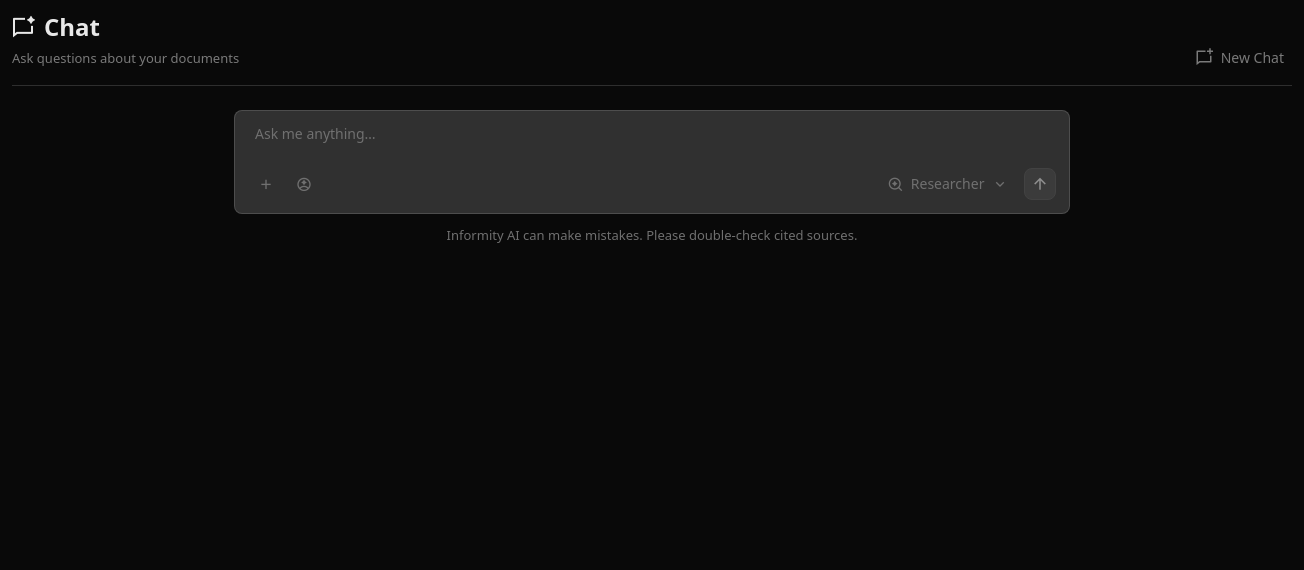
ChatView new chat behavior › shows edit control only on the latest non-internal user message after streaming completes
The width and height of the screenshot is (1304, 570).
In the text box named "Chat message input": x=652, y=162 [234,110,1070,214], type "First prompt"
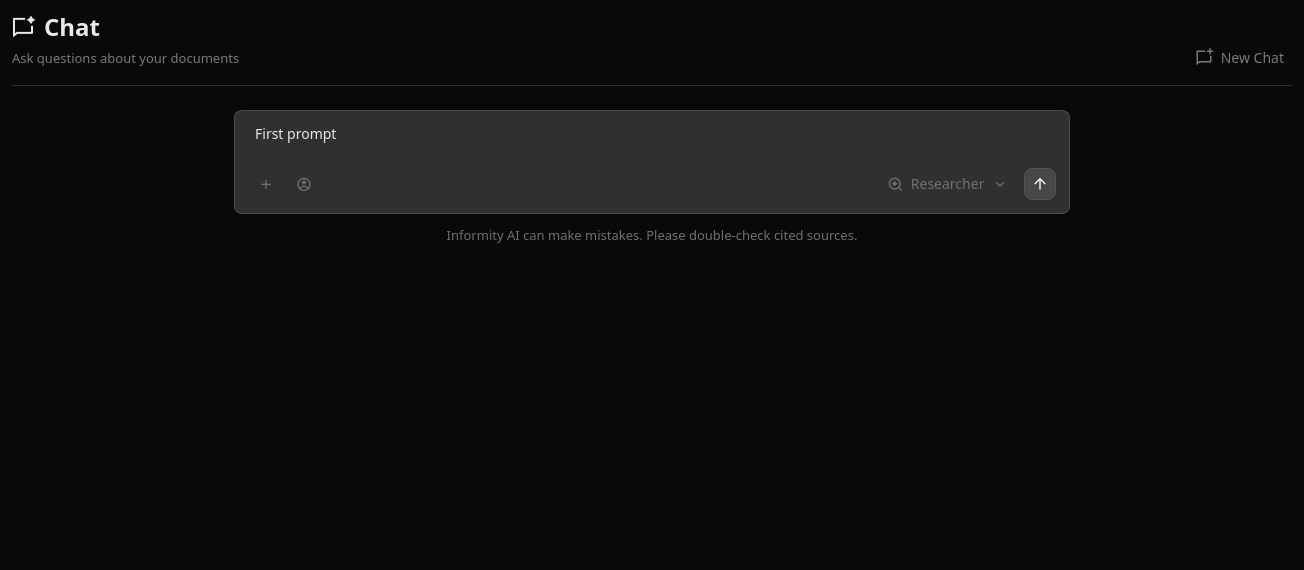
Click the button named "Send message": x=1040, y=184 [1024,168,1056,200]
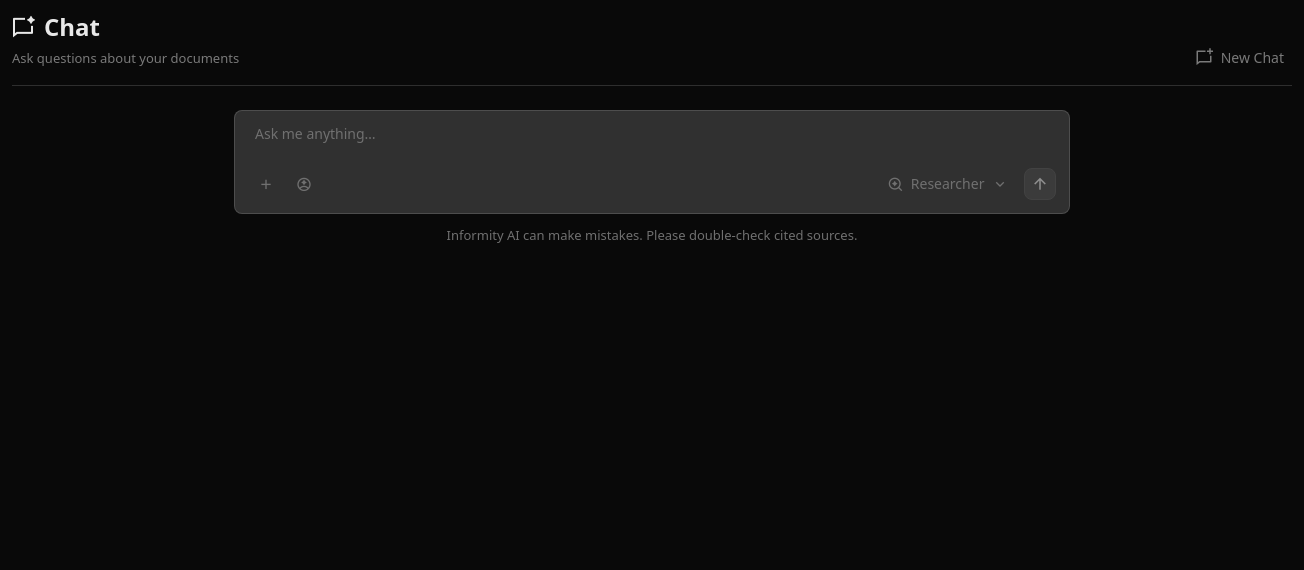
In the text box named "Chat message input": x=652, y=162 [234,110,1070,214], type "Second prompt"
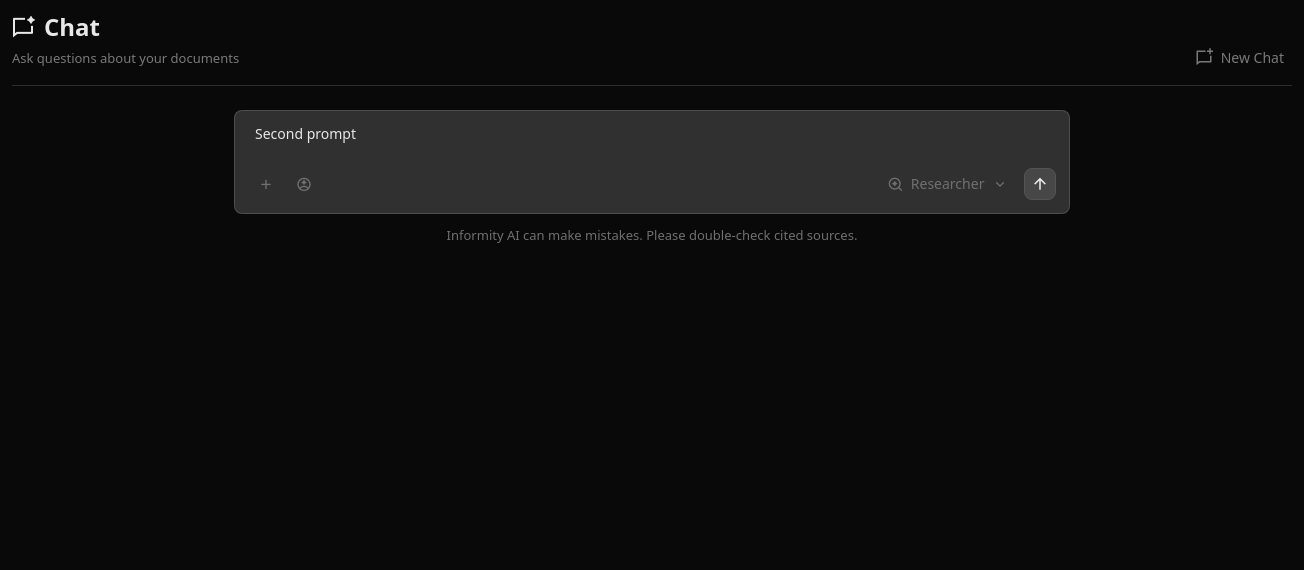
Click the button named "Send message": x=1040, y=184 [1024,168,1056,200]
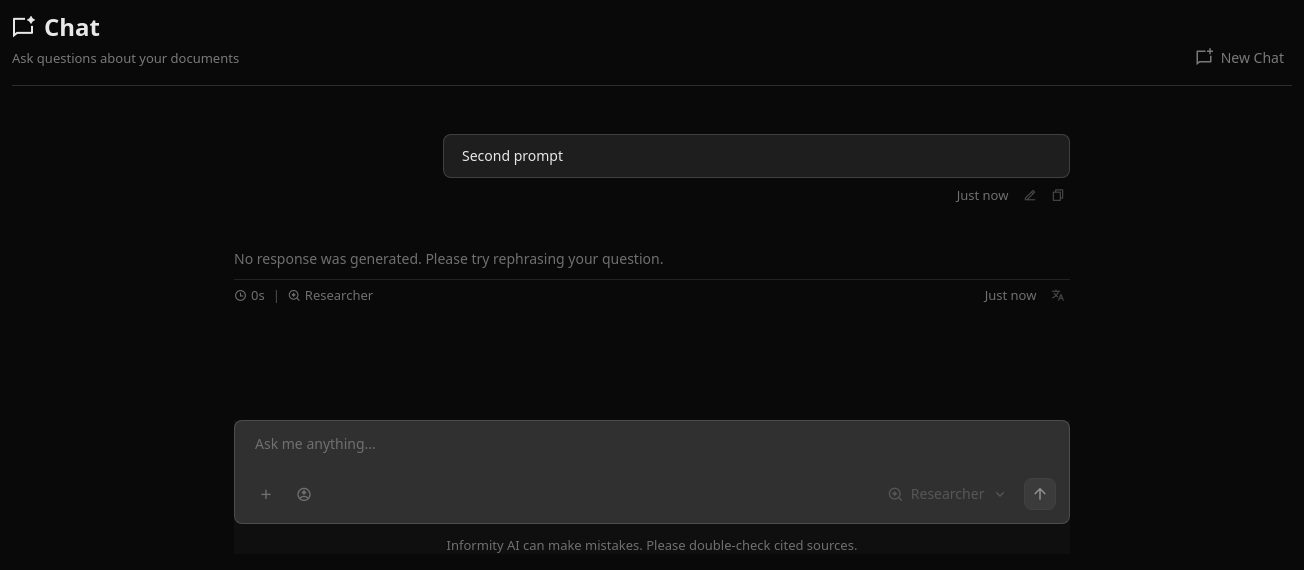
Now the number of buttons named "Edit message" is 1, box [1018,184,1042,208]
